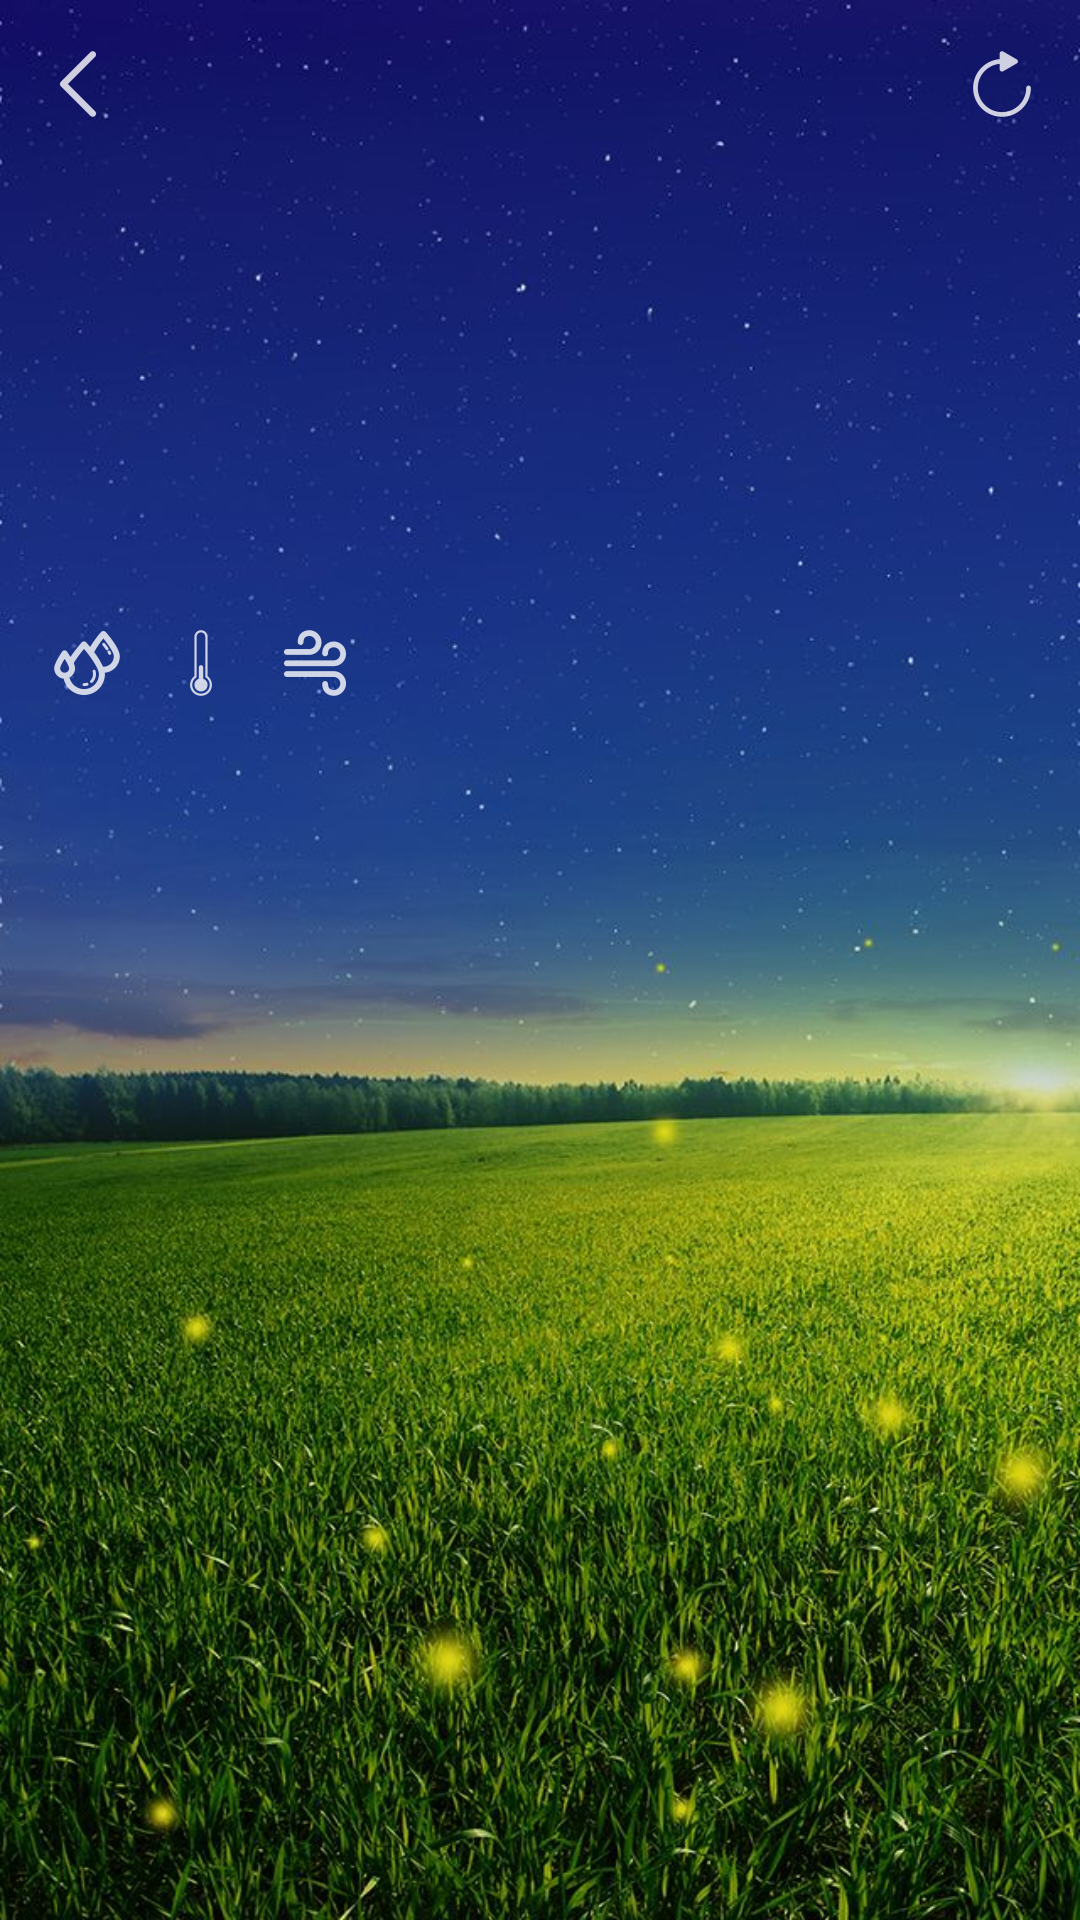

Locate icon controls on the screen. Image size 1080 x 1920, boxes as (x1, y1, x2, y2).
back: (31, 47, 126, 127)
refresh: (973, 51, 1047, 129)
